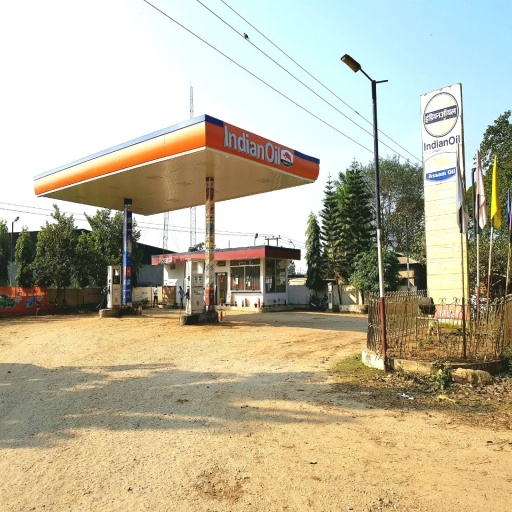roof: (32, 116, 320, 220)
